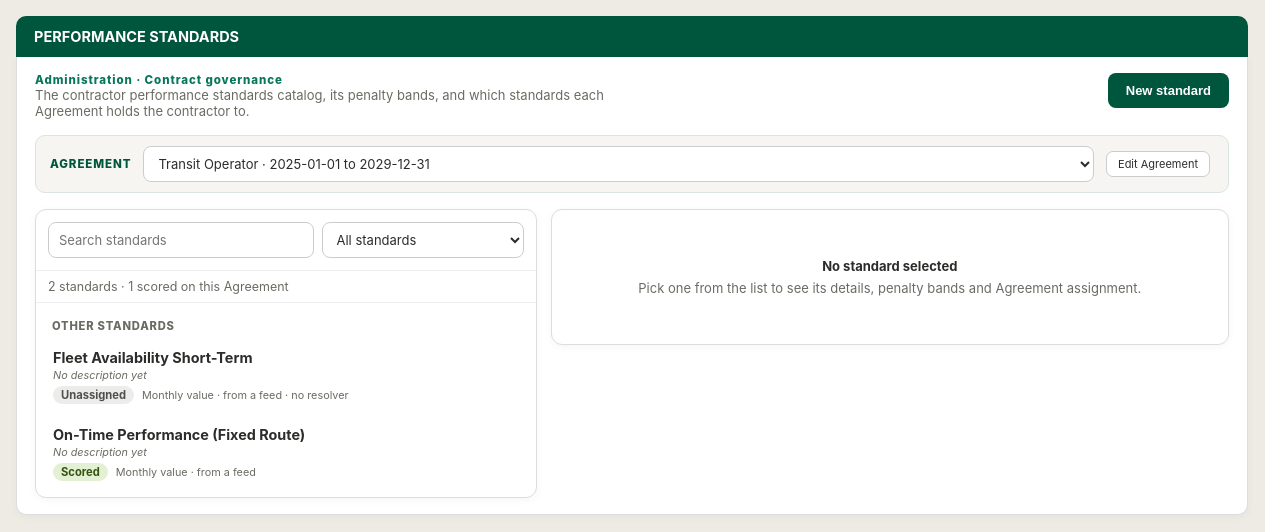
Test case: Performance Standards administration › filters the catalog by what a reader is looking for
Check: the text "On-Time Performance (Fixed Route)" is shown, box [53, 426, 305, 443]
Select "Not assigned" in the dropdown named "Filter standards" at (422, 240), box [322, 222, 524, 258]
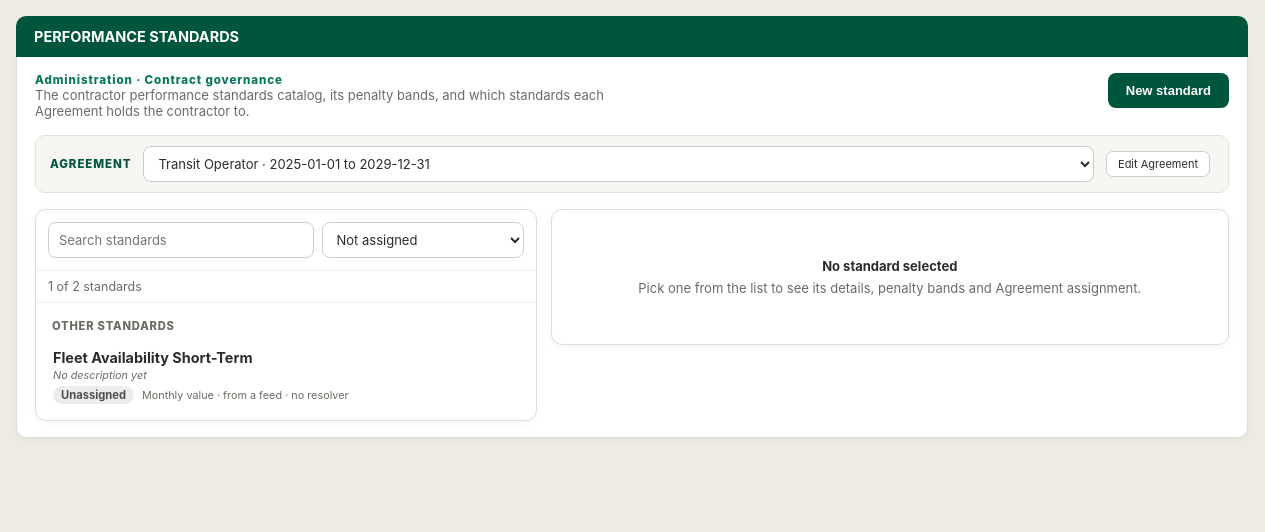
Check: the text "Fleet Availability Short-Term" is shown, box [53, 349, 252, 366]
Check: the button "On-Time Performance (Fixed Route)" is gone
Select "All standards" in the dropdown named "Filter standards" at (422, 240), box [322, 222, 524, 258]
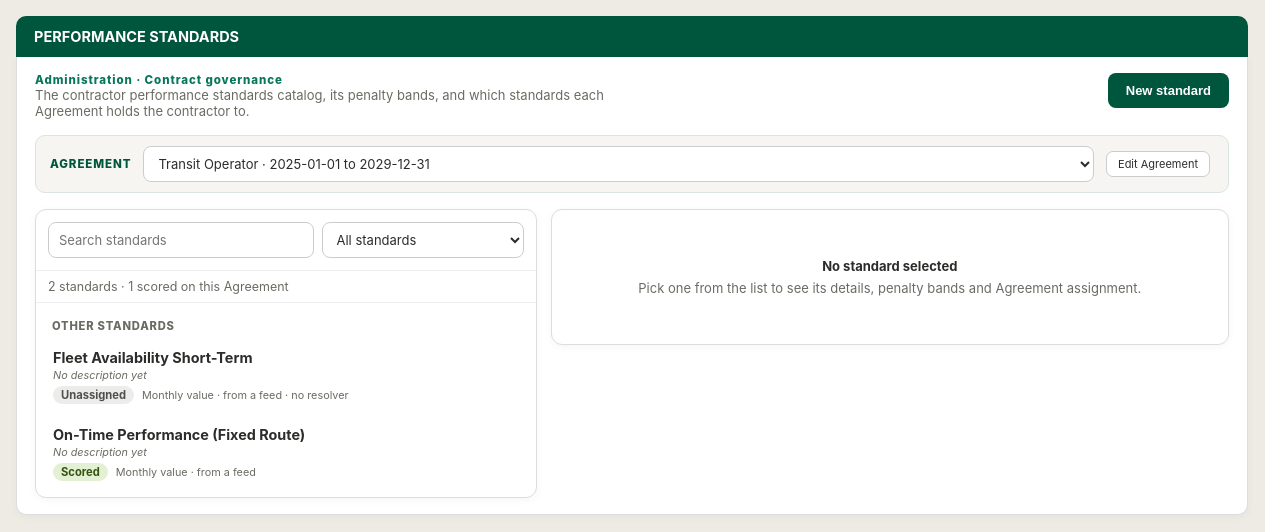
Type "on-time" into the search field labelled "Search standards" at (181, 240), box [48, 222, 314, 258]
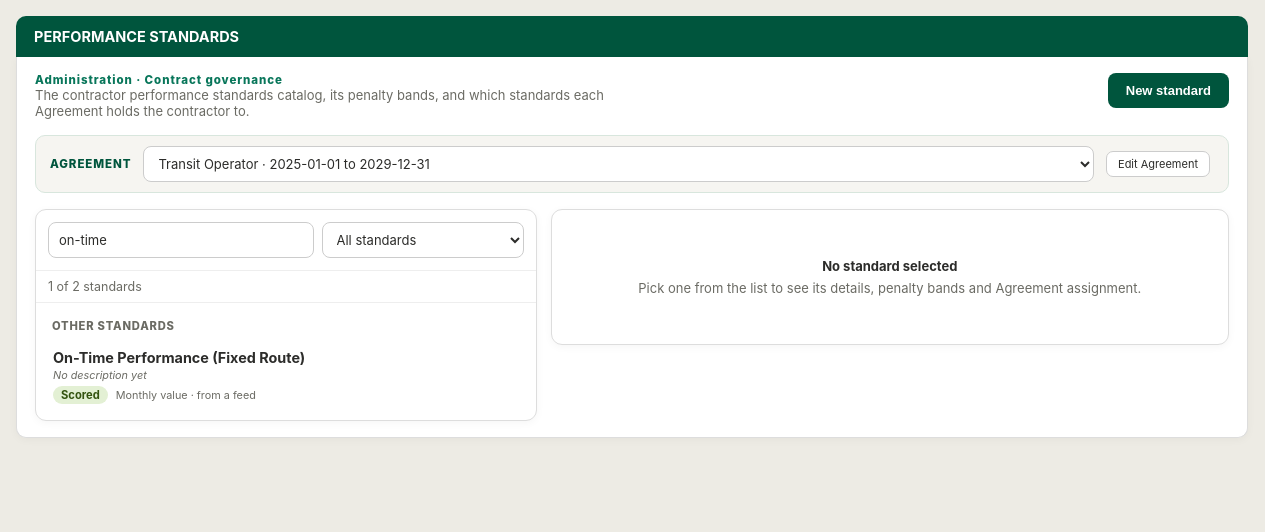
Check: the text "On-Time Performance (Fixed Route)" is shown, box [53, 349, 305, 366]
Check: the button "Fleet Availability Short-Term" is gone
